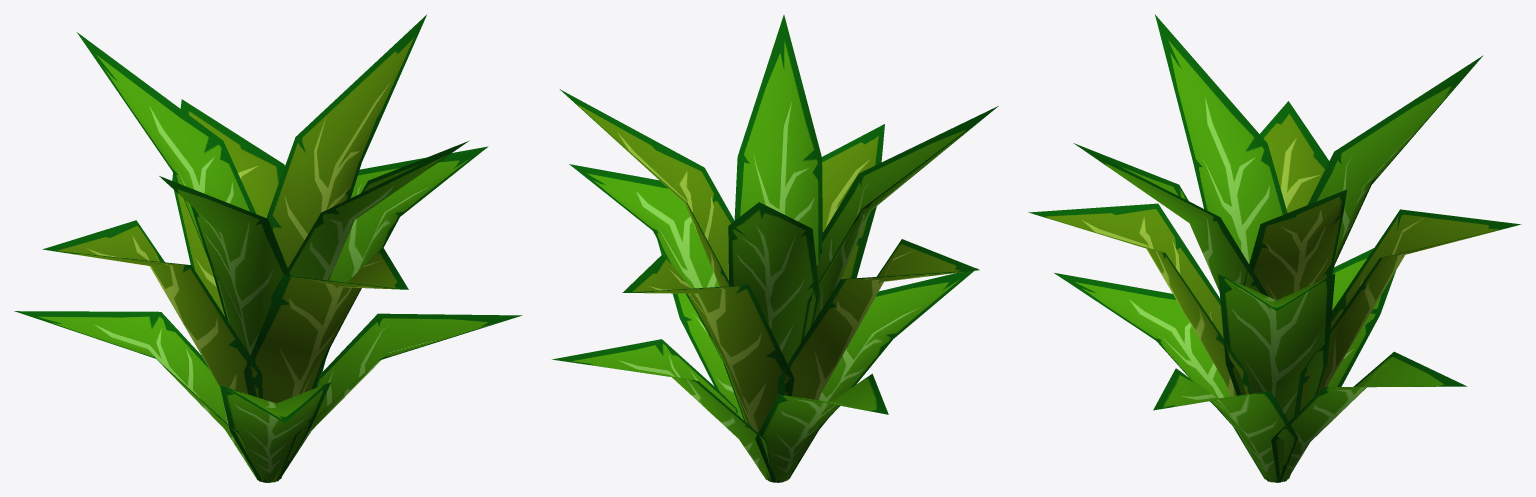
File: Toon_Veg_Grass_01.fbx
The picture shows the model from 3 angles, left to right: view 1: azimuth 30°, elevation 25°; view 2: azimuth 150°, elevation 25°; view 3: azimuth 270°, elevation 25°; orthographic projection. The views are drawn at different scales.
Visible parts, largest first — view 1: Toon_Veg_Grass_01; view 2: Toon_Veg_Grass_01; view 3: Toon_Veg_Grass_01.
Part boxes in pixels (x1,y1,x2,y2): Toon_Veg_Grass_01: (14, 15, 522, 482); Toon_Veg_Grass_01: (552, 15, 998, 482); Toon_Veg_Grass_01: (1028, 14, 1521, 482).
Bounding box in the file's own units: 2.15 × 1.82 × 2.13.
